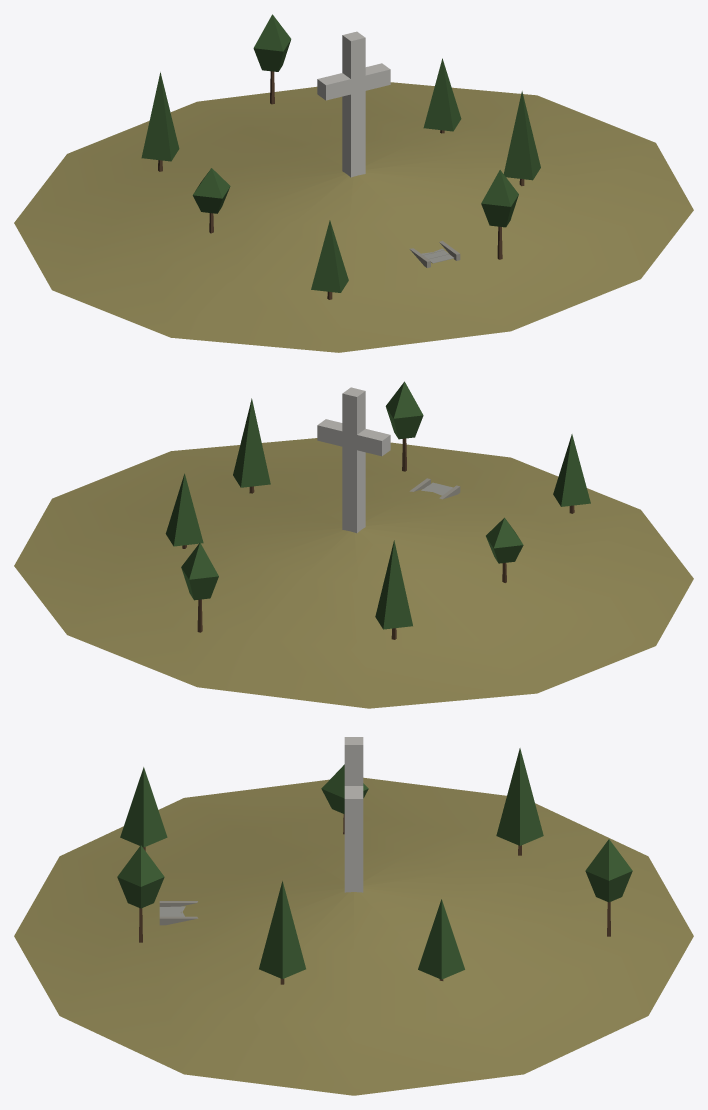
File: mobile.glb
The picture shows the model from 3 angles, top to bottom: view 1: azimuth 30°, elevation 25°; view 2: azimuth 150°, elevation 25°; view 3: azimuth 270°, elevation 25°; orthographic projection. The views are drawn at different scales.
Parts seen in each view (by area): view 1: lm.mount-davidson-cross; view 2: lm.mount-davidson-cross; view 3: lm.mount-davidson-cross.
Part boxes in pixels (x1,y1,x2,y2): lm.mount-davidson-cross: [14, 14, 693, 352]; lm.mount-davidson-cross: [14, 381, 693, 708]; lm.mount-davidson-cross: [14, 737, 693, 1095].
Size of the model in its own units: 140 by 39.9 by 126.
